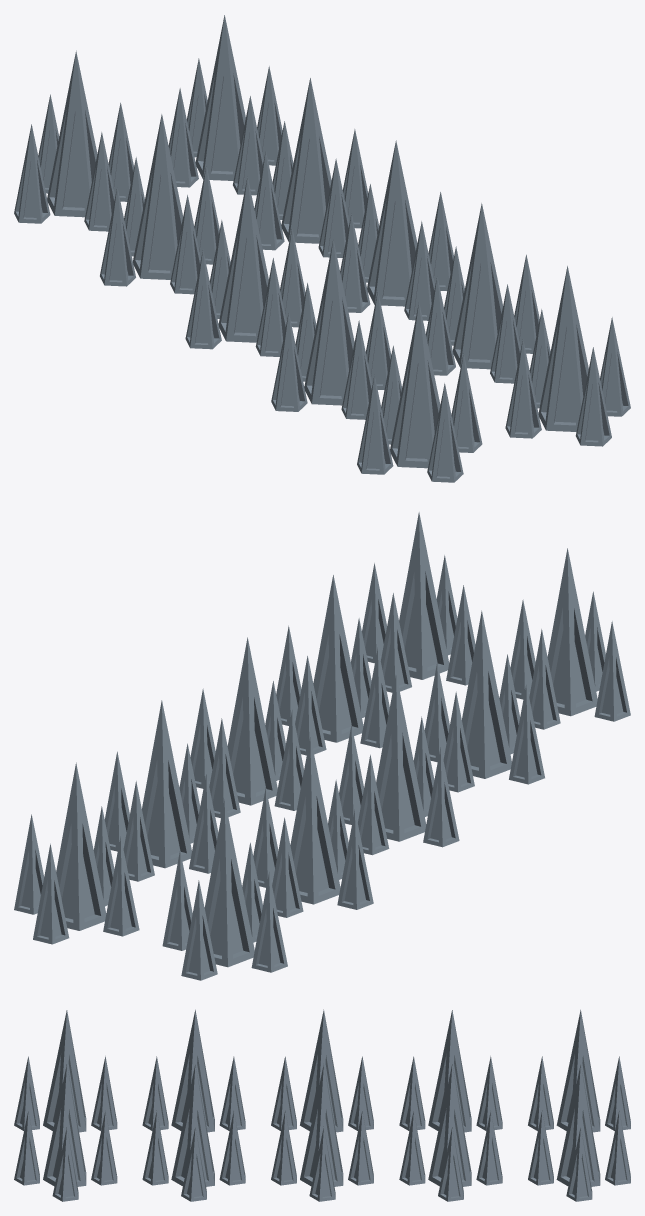
Rendered from gyrace-build-spikes.glb.
The picture shows the model from 3 angles, top to bottom: view 1: azimuth 30°, elevation 25°; view 2: azimuth 150°, elevation 25°; view 3: azimuth 270°, elevation 25°; orthographic projection. The views are drawn at different scales.
Parts seen in each view (by area): view 1: spikes; view 2: spikes; view 3: spikes.
Part boxes in pixels (x1=…): spikes: x1=14, y1=15, x2=630, y2=482; spikes: x1=14, y1=512, x2=630, y2=980; spikes: x1=14, y1=1009, x2=630, y2=1201.
Bounding box in the file's own units: 1.51 × 0.8327 × 4.
